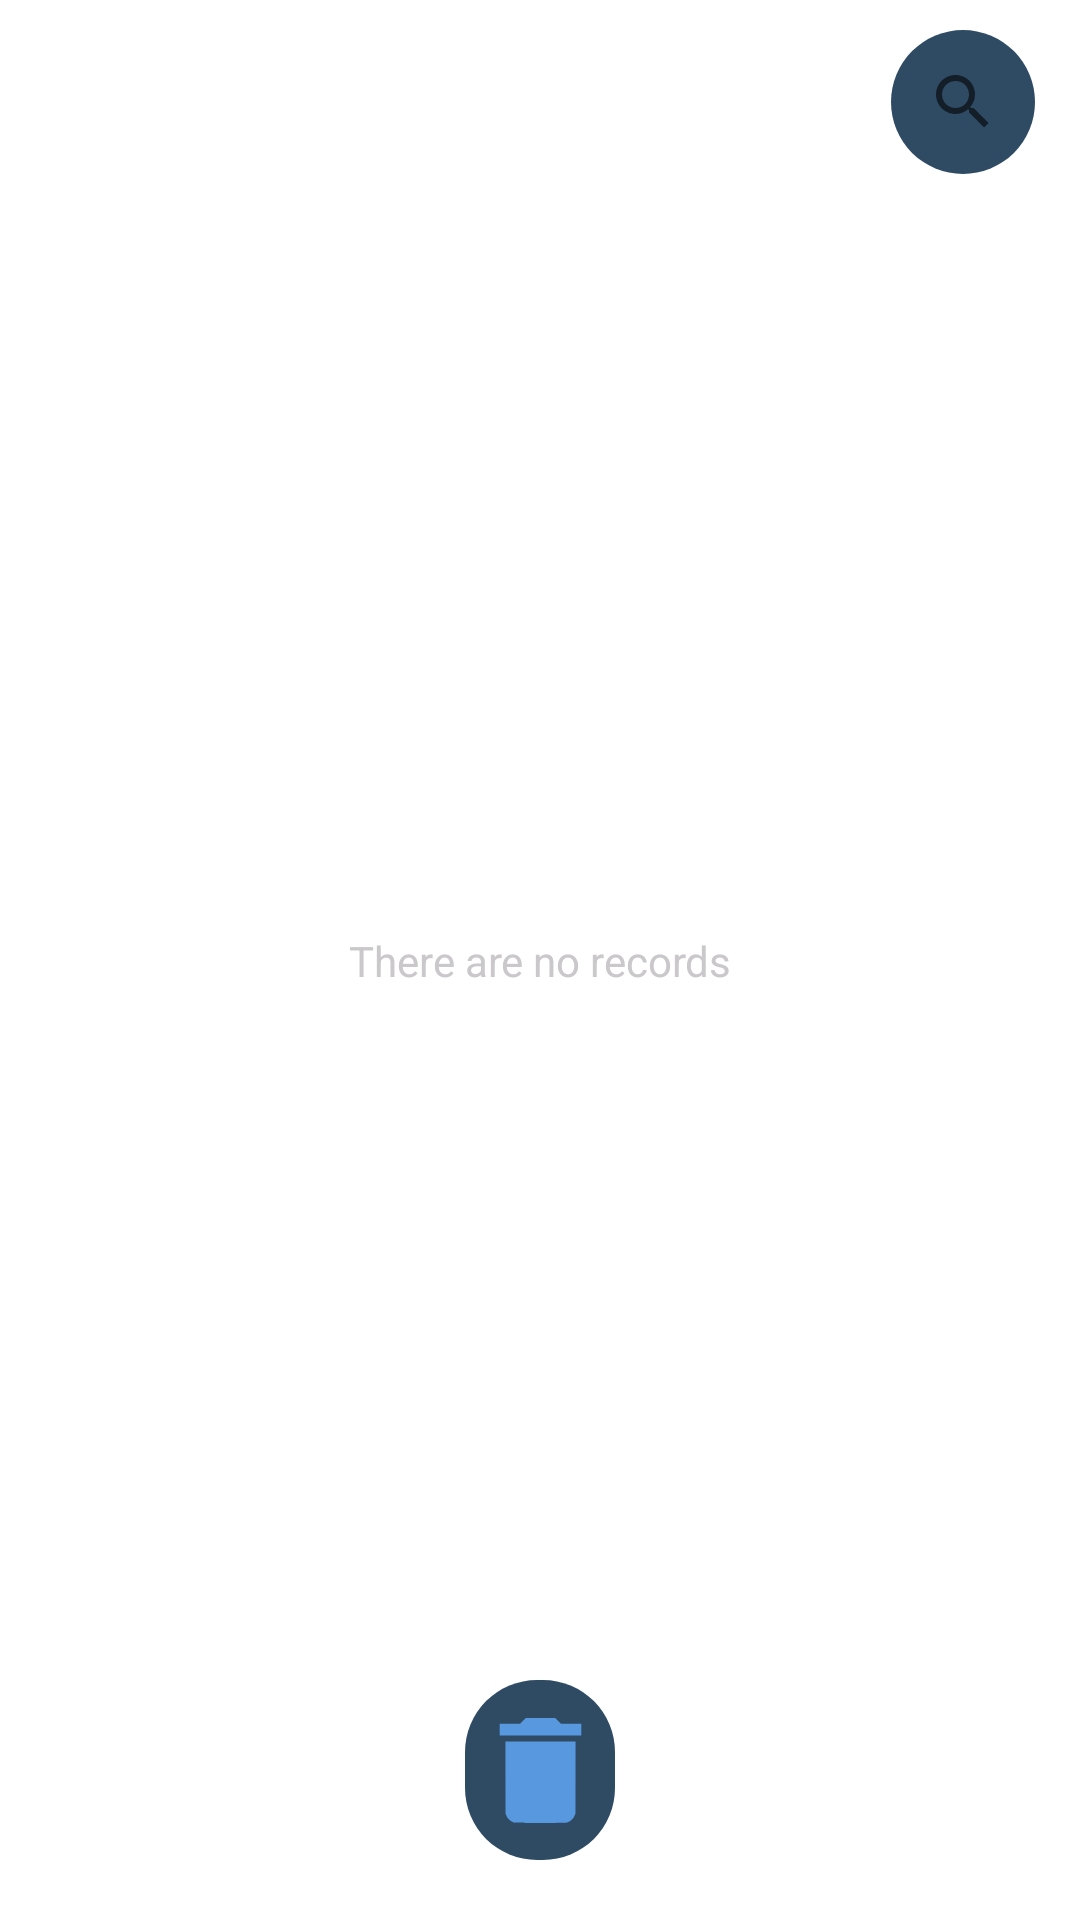

Icon bounding boxes for this 1080w x 1920h phone screenshot, format (x1, y1, x2, y2):
delete password: (499, 1718, 582, 1823)
